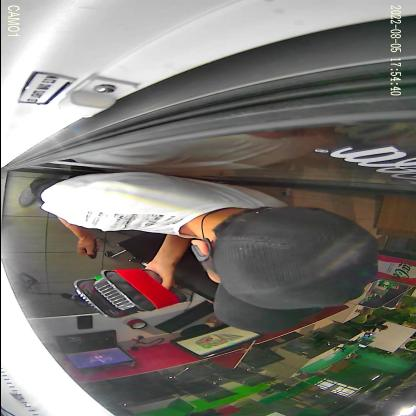green: (72, 276, 142, 319)
red: (93, 269, 187, 311)
